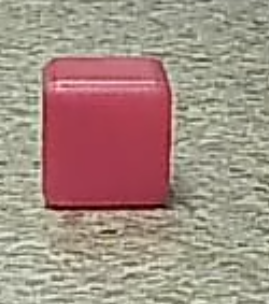red_cube: (35, 51, 185, 214)
